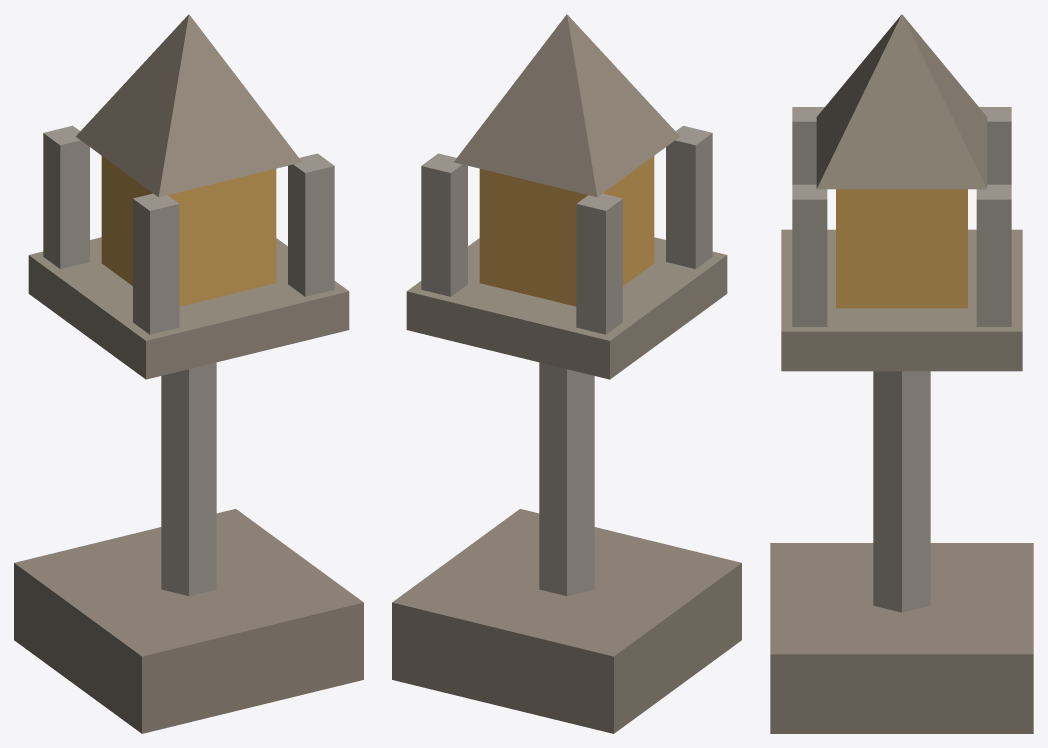
The model's file is stone-lantern.glb.
3 renders of one model, left to right at view 1: azimuth 30°, elevation 25°; view 2: azimuth 150°, elevation 25°; view 3: azimuth 270°, elevation 25°, orthographic. The views are drawn at different scales.
Parts seen in each view (by area): view 1: props/stone-lantern; view 2: props/stone-lantern; view 3: props/stone-lantern.
Part boxes in pixels (x1,y1,x2,y2): props/stone-lantern: (14, 14, 363, 733); props/stone-lantern: (392, 14, 741, 733); props/stone-lantern: (770, 14, 1033, 733).
Bounding box in the file's own units: 0.6 × 1.67 × 0.6.
